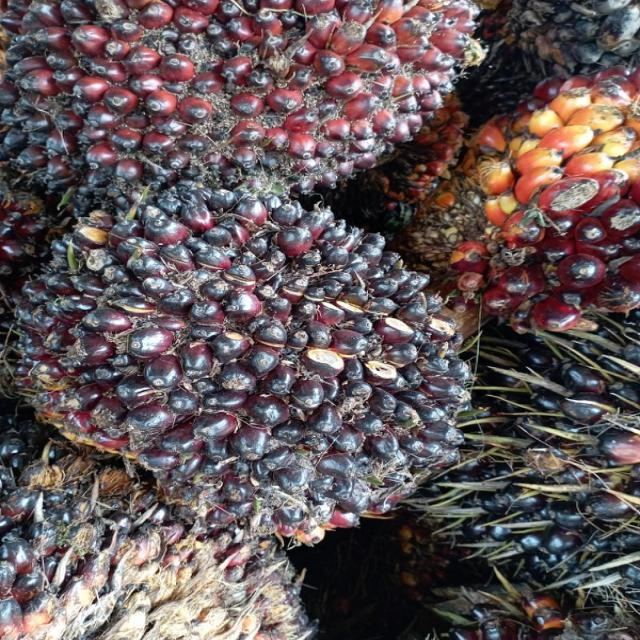fraksi 00: (23, 175, 486, 529)
fraksi 1: (0, 0, 478, 218)
